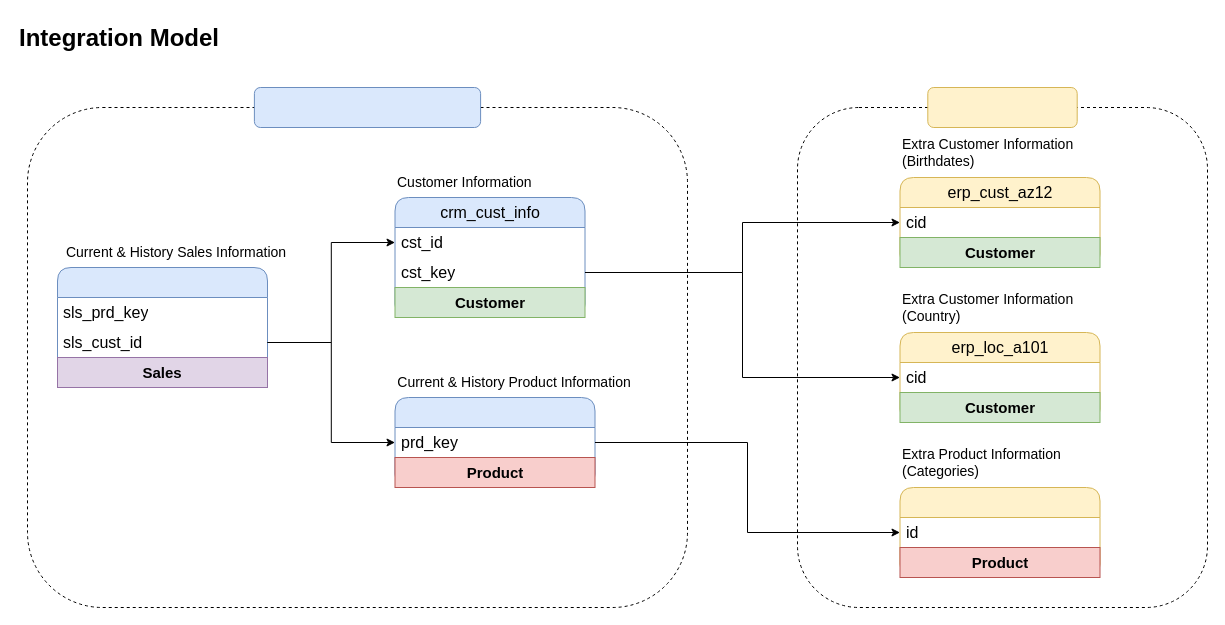
This 1225x625 diagram has some shape labels left out. Each missing label, with the box of its shape:
CRM: (253, 86, 481, 128)
crm_prd_info: (394, 396, 595, 488)
crm_sales_details: (56, 266, 268, 388)
ERP: (927, 86, 1077, 128)
erp_px_cat_g1v2: (899, 486, 1100, 578)
